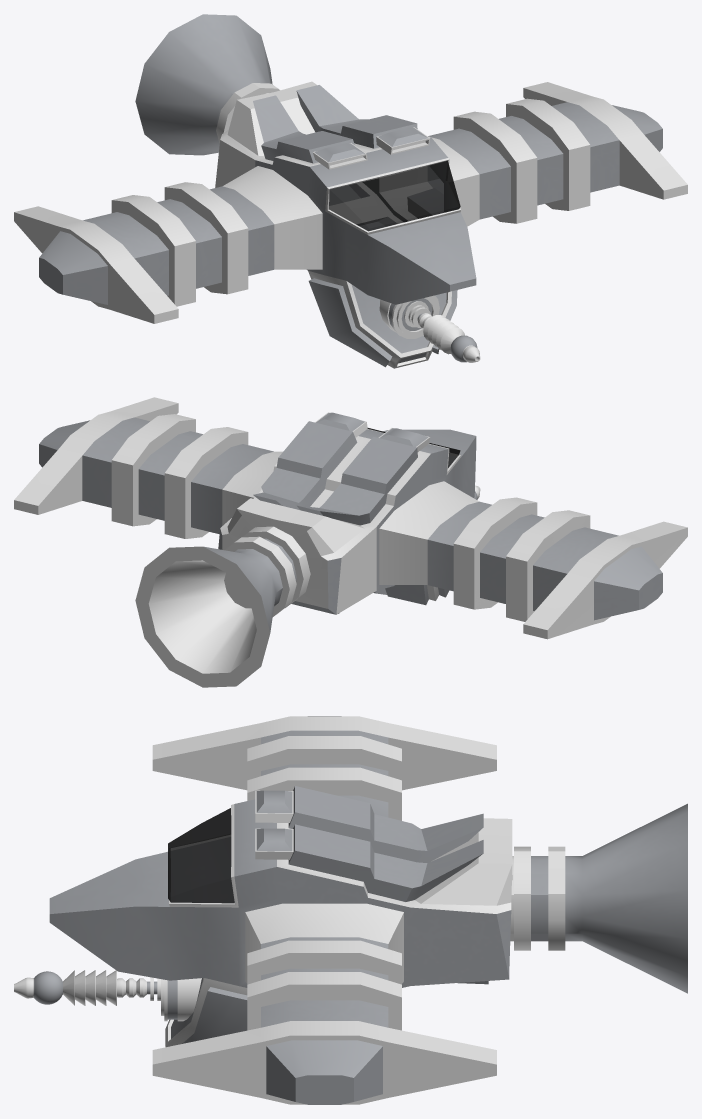
Rendered from CDE.fbx.
3 renders of one model, top to bottom at view 1: azimuth 30°, elevation 25°; view 2: azimuth 150°, elevation 25°; view 3: azimuth 270°, elevation 25°, orthographic. The views are drawn at different scales.
Parts seen in each view (by area): view 1: CDE; view 2: CDE; view 3: CDE.
Part boxes in pixels (x1=…): CDE: x1=14, y1=14, x2=687, y2=368; CDE: x1=14, y1=397, x2=687, y2=687; CDE: x1=14, y1=716, x2=687, y2=1104.
Bounding box in the file's own units: 8.9 × 2.84 × 7.06.
